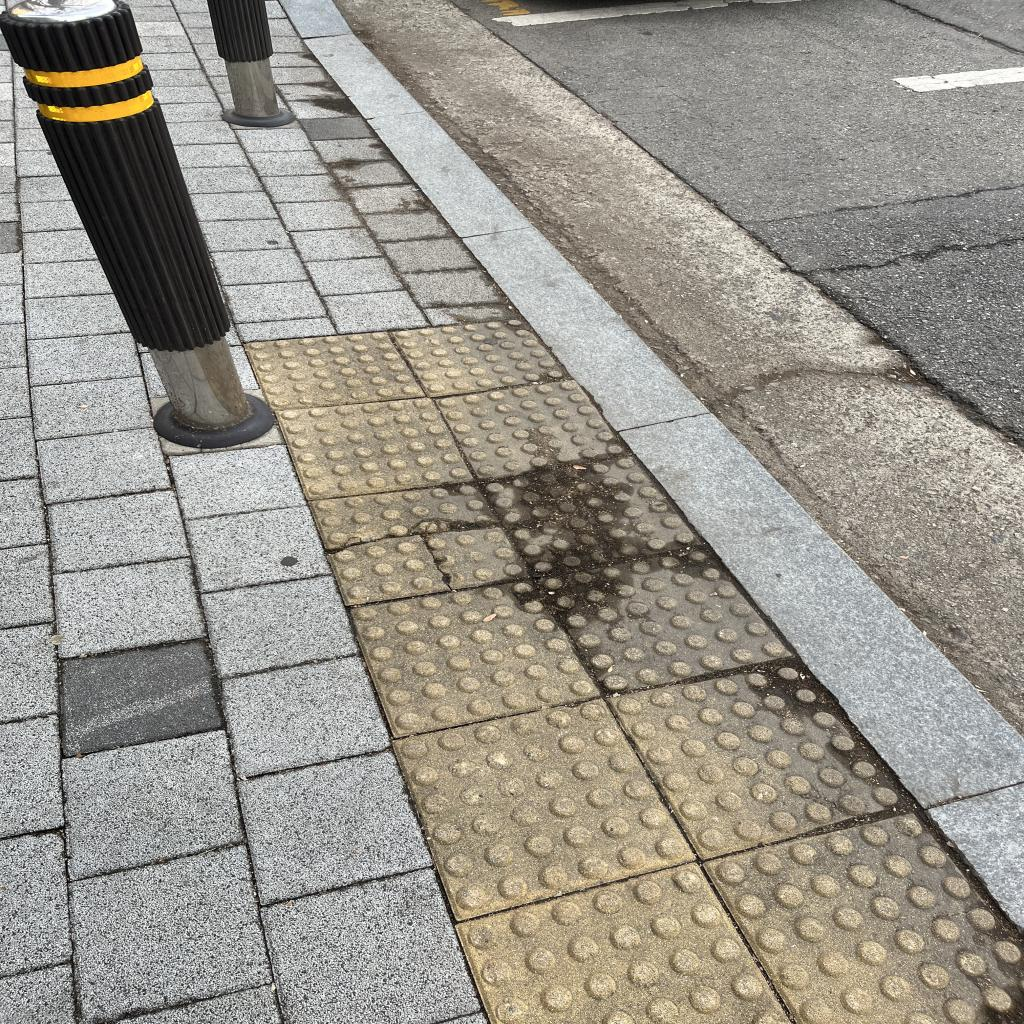Stop block broken: (312, 471, 529, 606)
Stop block normal: (393, 678, 694, 923), (611, 634, 910, 870), (352, 563, 598, 739), (537, 533, 791, 702), (482, 445, 699, 582), (277, 392, 473, 501), (436, 372, 627, 483)
